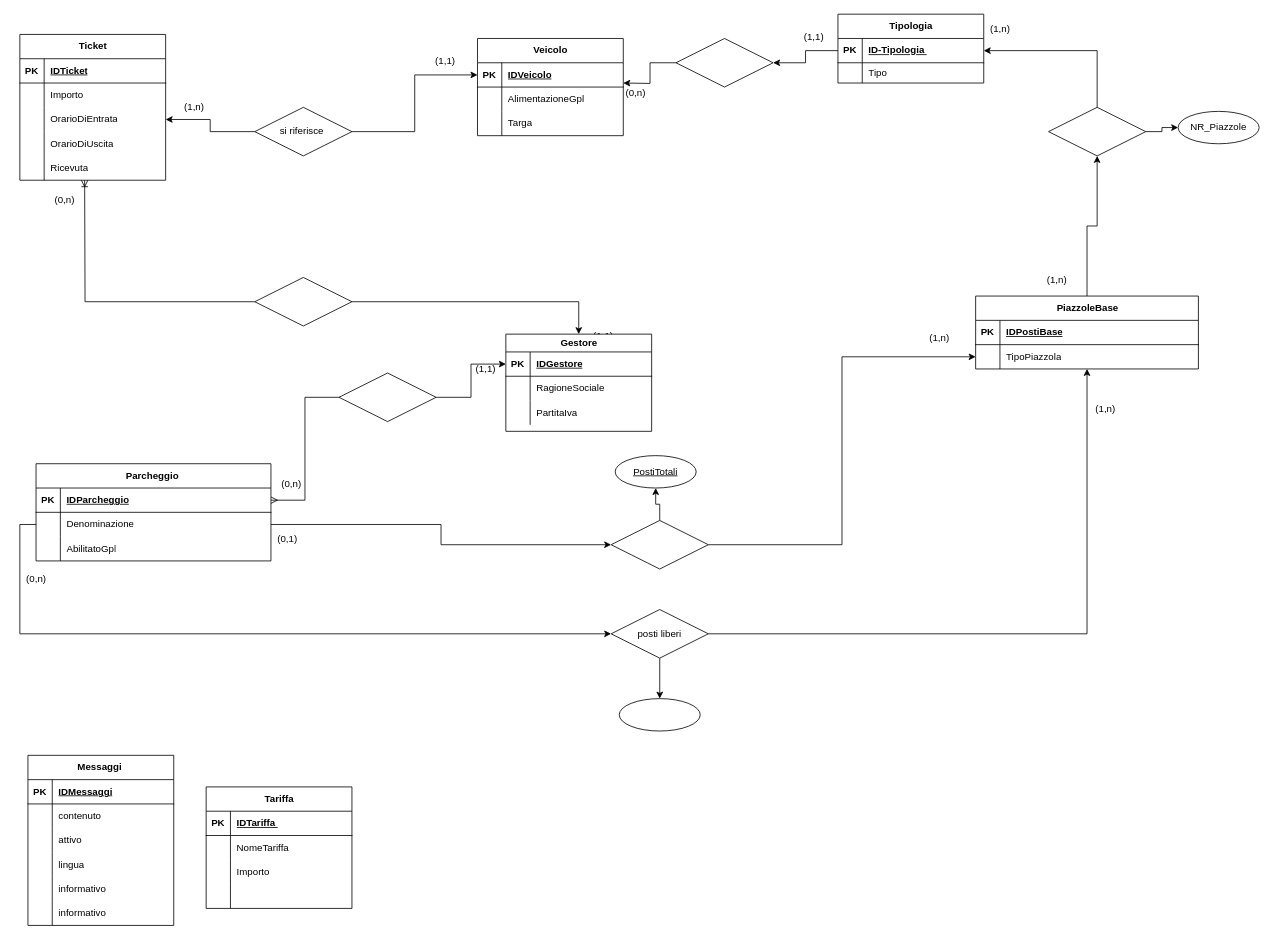
The diagram is 1273 pixels wide and 940 high, and some of its shapes have lost their labels. Each missing label, with the centre of its shape:
appartiene: point 724,62
contiene: point 659,544
emette: point 303,301
Non occupati: point 659,714
occupa: point 1097,131
possiede: point 387,397
